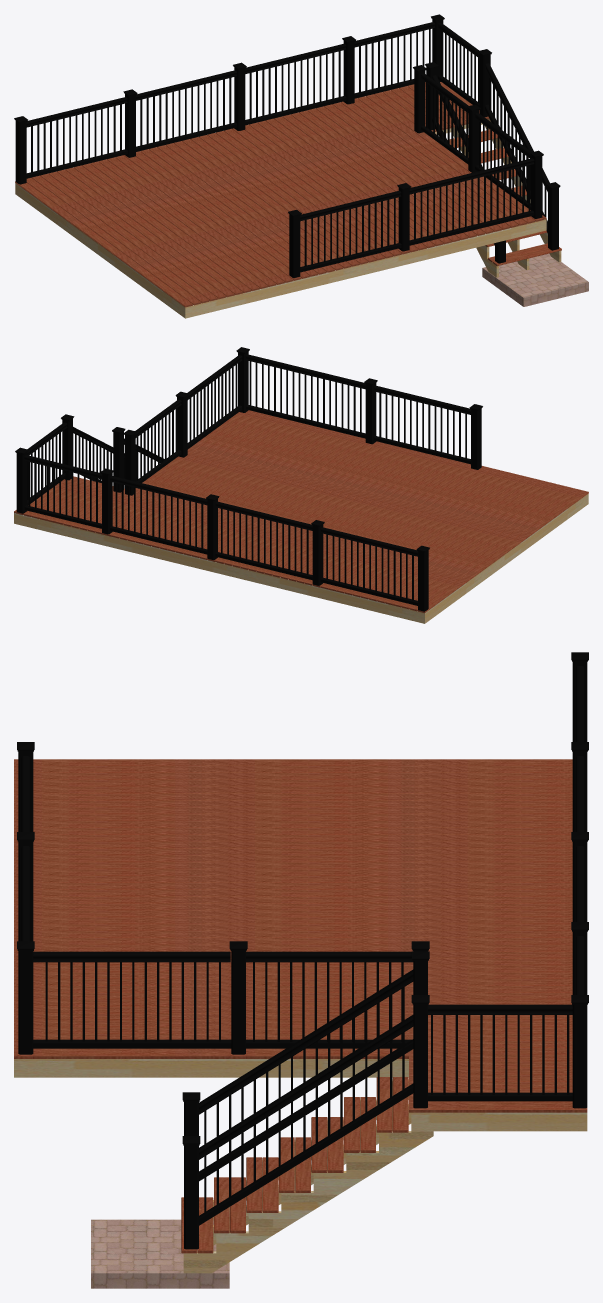
3 views of the same model, one above another, from view 1: azimuth 30°, elevation 25°; view 2: azimuth 150°, elevation 25°; view 3: azimuth 270°, elevation 25° (orthographic). The views are drawn at different scales.
Visible parts, largest first — view 1: Model, TT26, TT10, TT4, TT5, TT3, TT6, TT7, TT8, TT9, TT11, TT12 (+54 smaller); view 2: Model, TT26, TT1, TT2, TT3, TT4, TT10, TT12, TT30, TT9, TT11, TT20 (+53 smaller); view 3: Model, TT4, TT5, TT7, TT12, TT14, TT15, TT27, TT29, TT6, TT13, TT28 (+40 smaller).
Boxes of the visible parts, x1,y1,x2,y2 form: Model: [15, 22, 588, 318]; TT26: [15, 181, 192, 307]; TT10: [98, 159, 276, 286]; TT4: [48, 171, 226, 299]; TT5: [57, 169, 234, 297]; TT3: [40, 173, 218, 301]; TT6: [65, 167, 243, 295]; TT7: [73, 165, 251, 292]; TT8: [82, 163, 259, 290]; TT9: [90, 161, 268, 288]; TT11: [107, 157, 284, 284]; TT12: [115, 155, 293, 282]; Model: [14, 354, 588, 623]; TT26: [417, 490, 588, 612]; TT1: [409, 488, 580, 611]; TT2: [401, 486, 572, 609]; TT3: [393, 484, 564, 607]; TT4: [385, 482, 556, 605]; TT10: [336, 470, 508, 593]; TT12: [320, 466, 492, 589]; TT30: [232, 446, 402, 567]; TT9: [345, 472, 516, 595]; TT11: [328, 468, 500, 591]; TT20: [135, 422, 305, 544]; Model: [14, 846, 587, 1288]; TT4: [14, 786, 572, 793]; TT5: [14, 793, 572, 800]; TT7: [14, 807, 572, 814]; TT12: [14, 841, 572, 848]; TT14: [14, 855, 572, 862]; TT15: [14, 862, 572, 869]; TT27: [14, 896, 572, 903]; TT29: [14, 910, 572, 917]; TT6: [14, 800, 572, 807]; TT13: [14, 848, 572, 855]; TT28: [14, 903, 572, 910].
Bounding box in the file's own units: 281 × 107 × 195.
6 materials, 3 textured.
